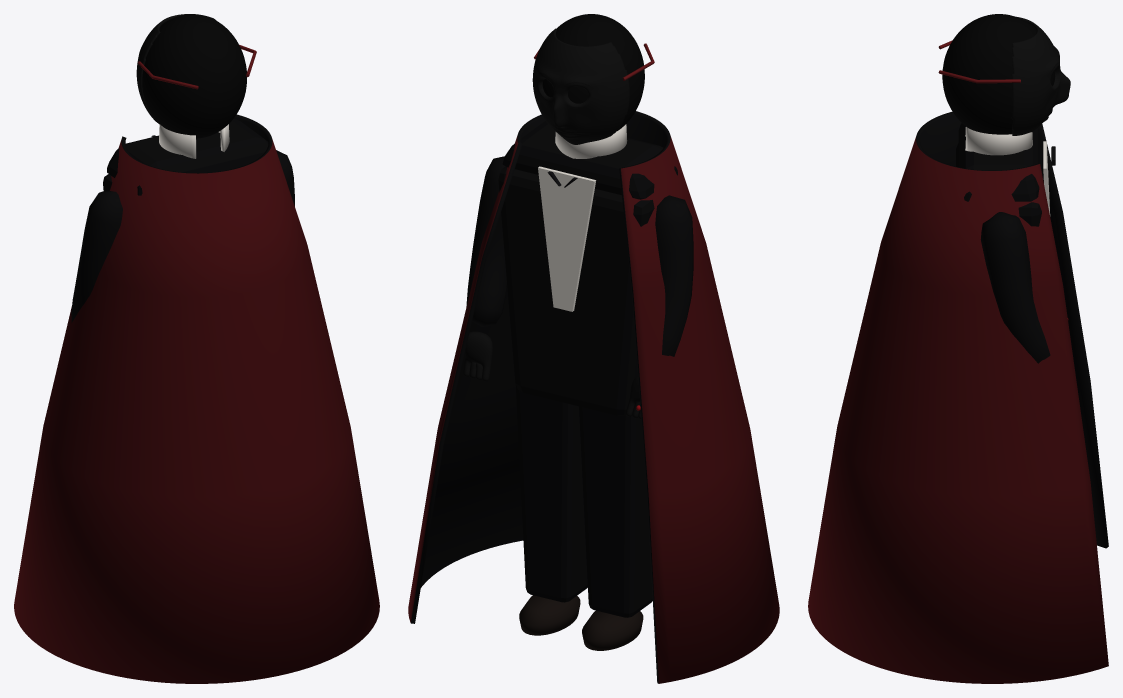
The model's file is mascara_proprietario.glb.
The picture shows the model from 3 angles, left to right: view 1: azimuth 30°, elevation 25°; view 2: azimuth 150°, elevation 25°; view 3: azimuth 270°, elevation 25°; orthographic projection.
Visible parts, largest first — view 1: capa, cabeca, ombros, manga, gola, mascara; view 2: capa, paleto, calca, calca.001, mascara, peitilho, ombros, manga, manga.001, cabeca, sapato.001, sapato (+2 smaller); view 3: capa, cabeca, manga.001, mascara, ombros, gola, paleto.
Part boxes in pixels (x1,y1,x2,y2): capa: (14,114,379,683); cabeca: (142,14,247,138); ombros: (107,119,277,195); manga: (71,191,122,322); gola: (159,124,229,158); mascara: (136,14,216,124); capa: (408,111,779,683); paleto: (498,166,654,415); calca: (579,406,652,617); calca.001: (515,384,587,602); mascara: (532,28,629,144); peitilho: (538,166,596,311); ombros: (502,121,677,199); manga: (655,195,693,356); manga.001: (466,156,506,326); cabeca: (542,14,644,131); sapato.001: (519,595,580,635); sapato: (582,610,643,650); capa: (808,111,1108,683); cabeca: (942,14,1055,134); manga.001: (980,212,1050,363); mascara: (1011,16,1070,135); ombros: (958,123,1039,201); gola: (965,127,1032,155); paleto: (956,143,1041,226).
Size of the model in its own units: 1.02 by 1.83 by 0.8378.
Materials: 12 (1 with a texture image).
